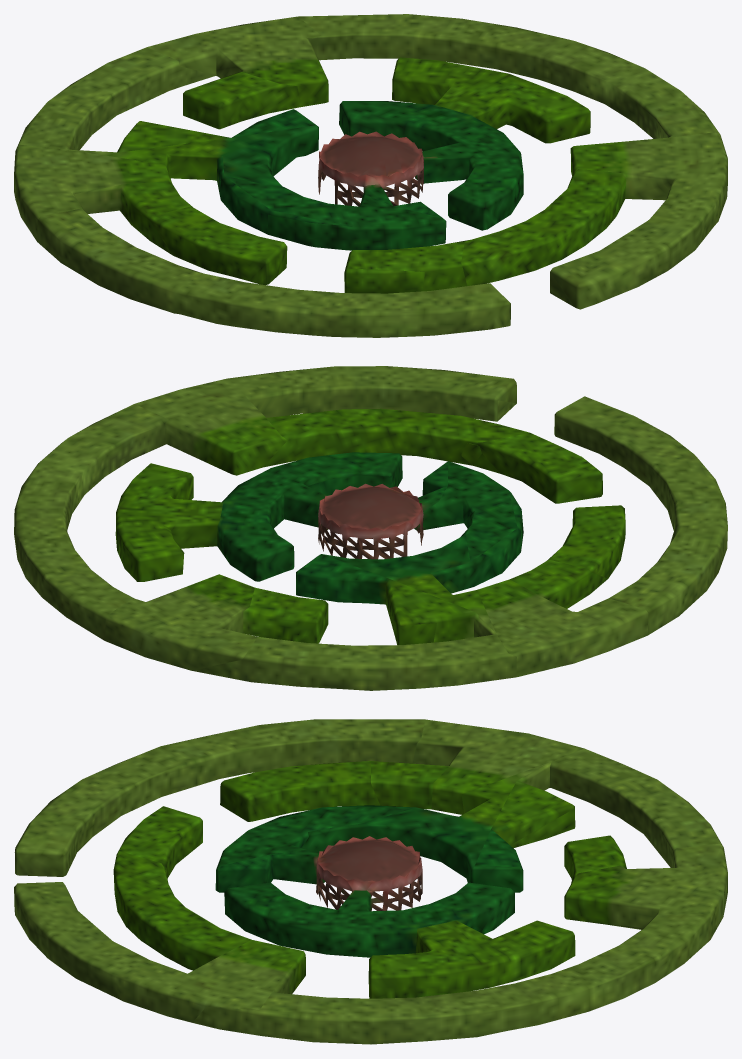
File: clod_town_t04_clod000.gltf
The picture shows the model from 3 angles, top to bottom: view 1: azimuth 30°, elevation 25°; view 2: azimuth 150°, elevation 25°; view 3: azimuth 270°, elevation 25°; orthographic projection.
Visible parts, largest first — view 1: clod_town_t04_clod000_000_meshShape:remesh_mat; view 2: clod_town_t04_clod000_000_meshShape:remesh_mat; view 3: clod_town_t04_clod000_000_meshShape:remesh_mat.
Boxes of the visible parts, x1,y1,x2,y2 form: clod_town_t04_clod000_000_meshShape:remesh_mat: (14, 14, 727, 337); clod_town_t04_clod000_000_meshShape:remesh_mat: (14, 366, 727, 690); clod_town_t04_clod000_000_meshShape:remesh_mat: (14, 719, 727, 1044).
Size of the model in its own units: 68.12 by 4.82 by 67.79.
1 material, 1 textured.
